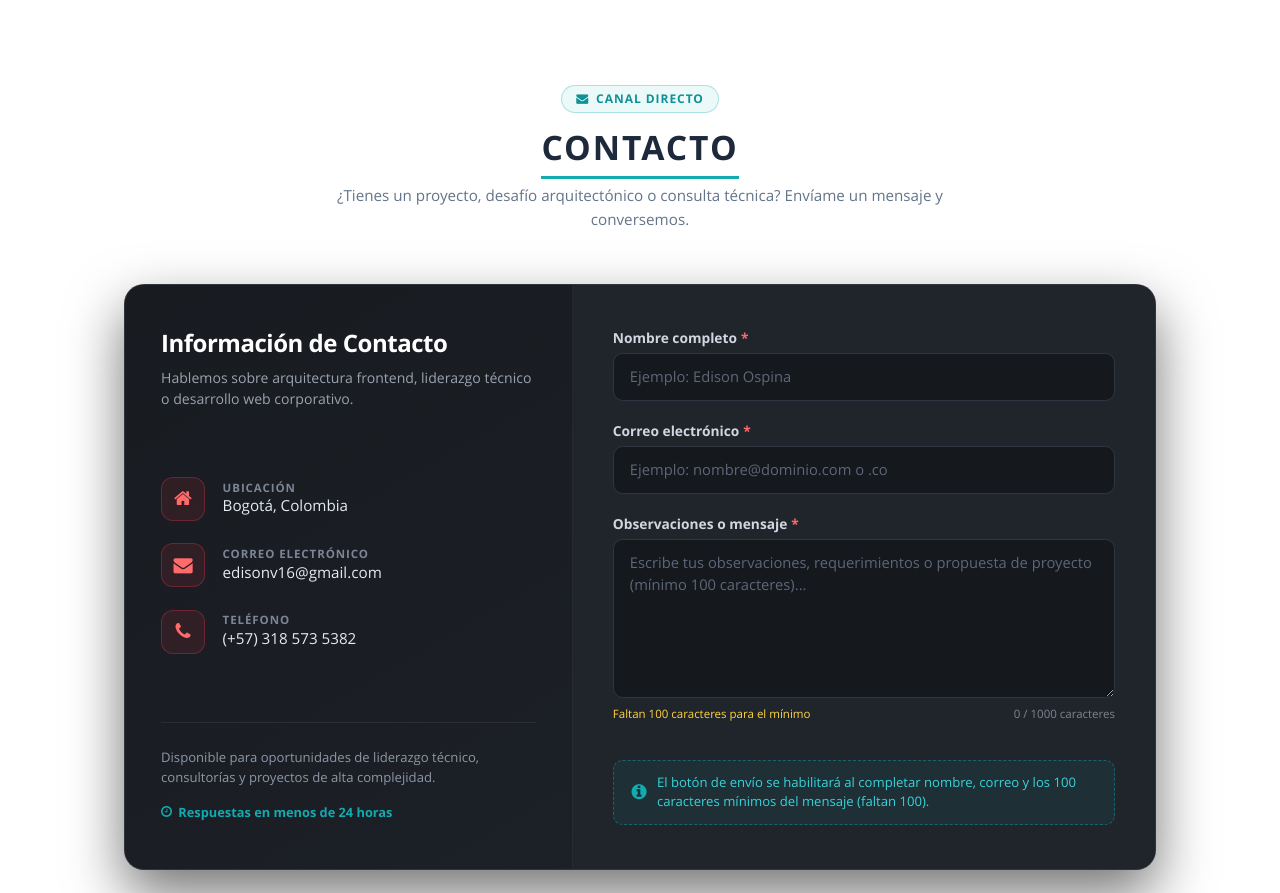
Test: Contact Component › submits successfully and displays affirmative confirmation with submitted fields and 24h SLA
In the field labelled "Nombre completo*": (864, 377) [613,353,1115,401], type "Carlos Mendoza"
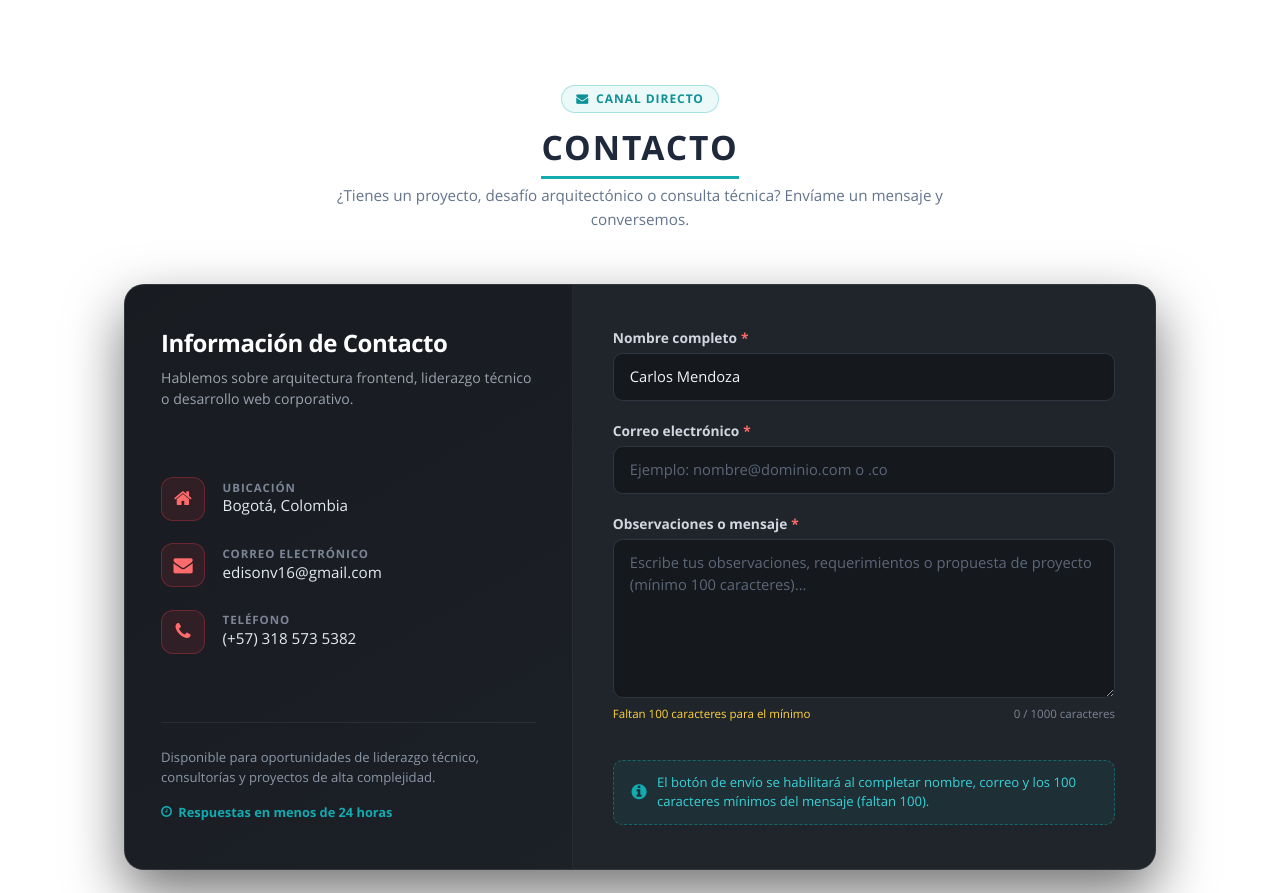
In the field labelled "Correo electrónico*": (864, 470) [613,446,1115,494], type "carlos@empresa.com.co"
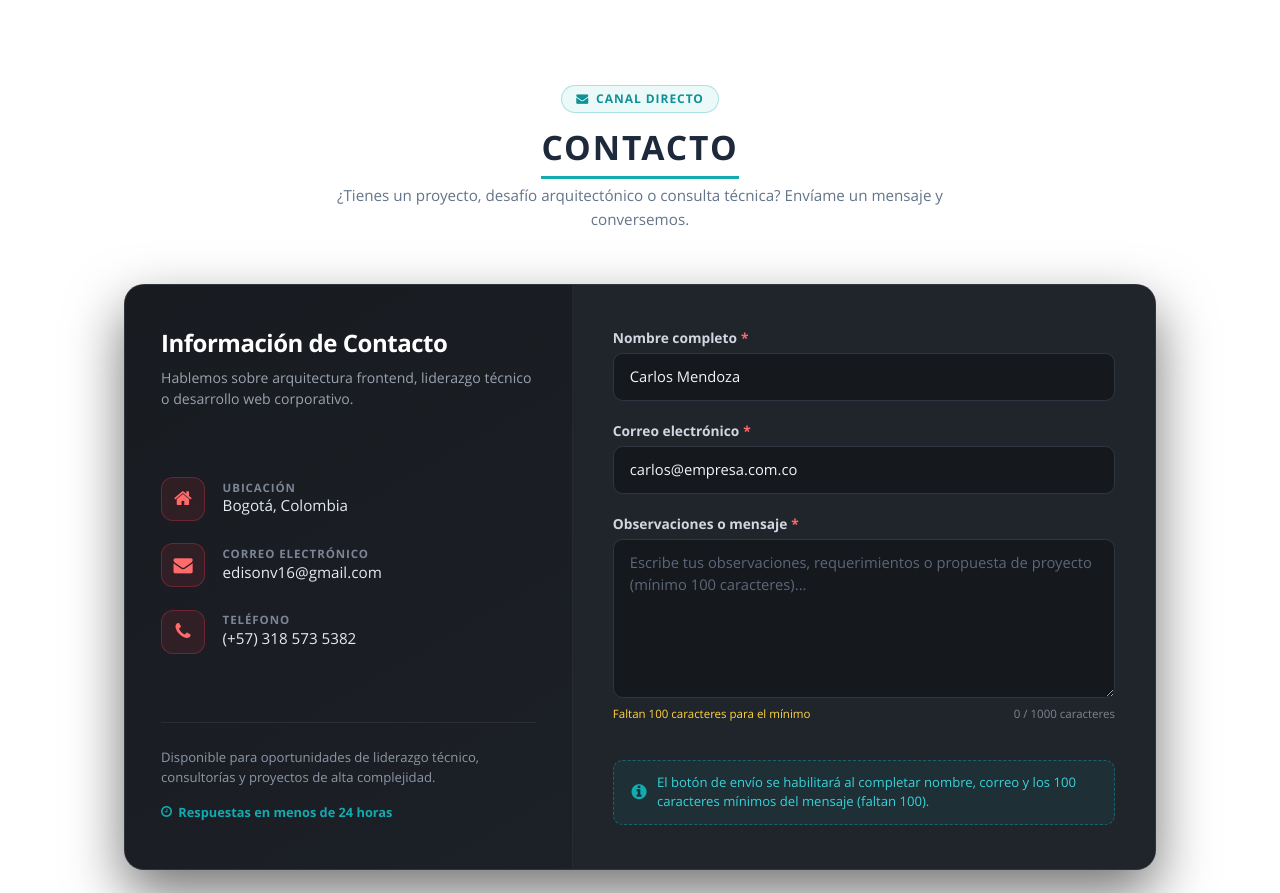
Replace the text in the text box labelled "Observaciones o mensaje*" with "Estimado Edison, me interesó mucho tu perfil profesional como Senior Frontend Engineer y deseamos coordinar una entrevista técnica para un proyecto.": (864, 619) [613,539,1115,698]
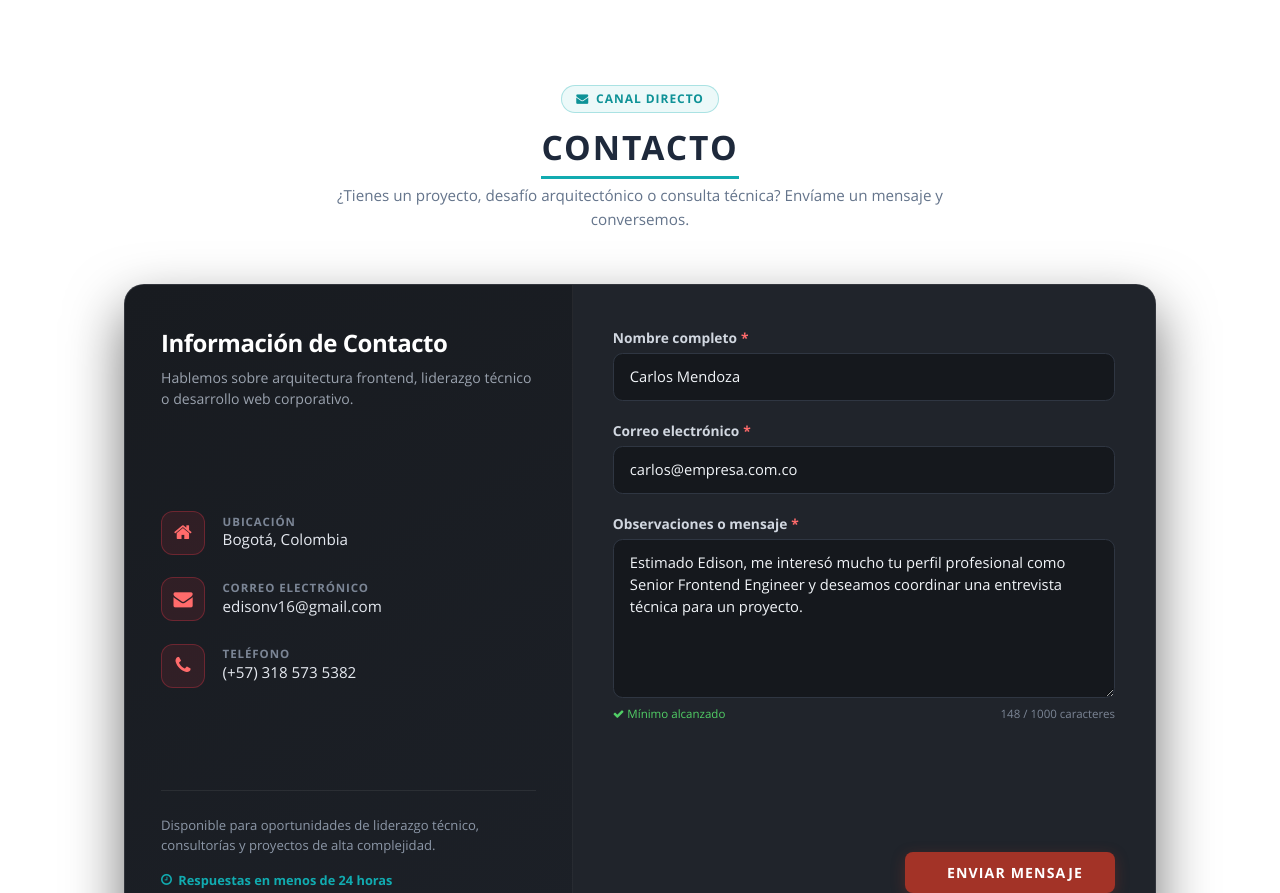
Click the button "Enviar Mensaje": (1010, 873) [905,852,1115,892]
(page scrolled)
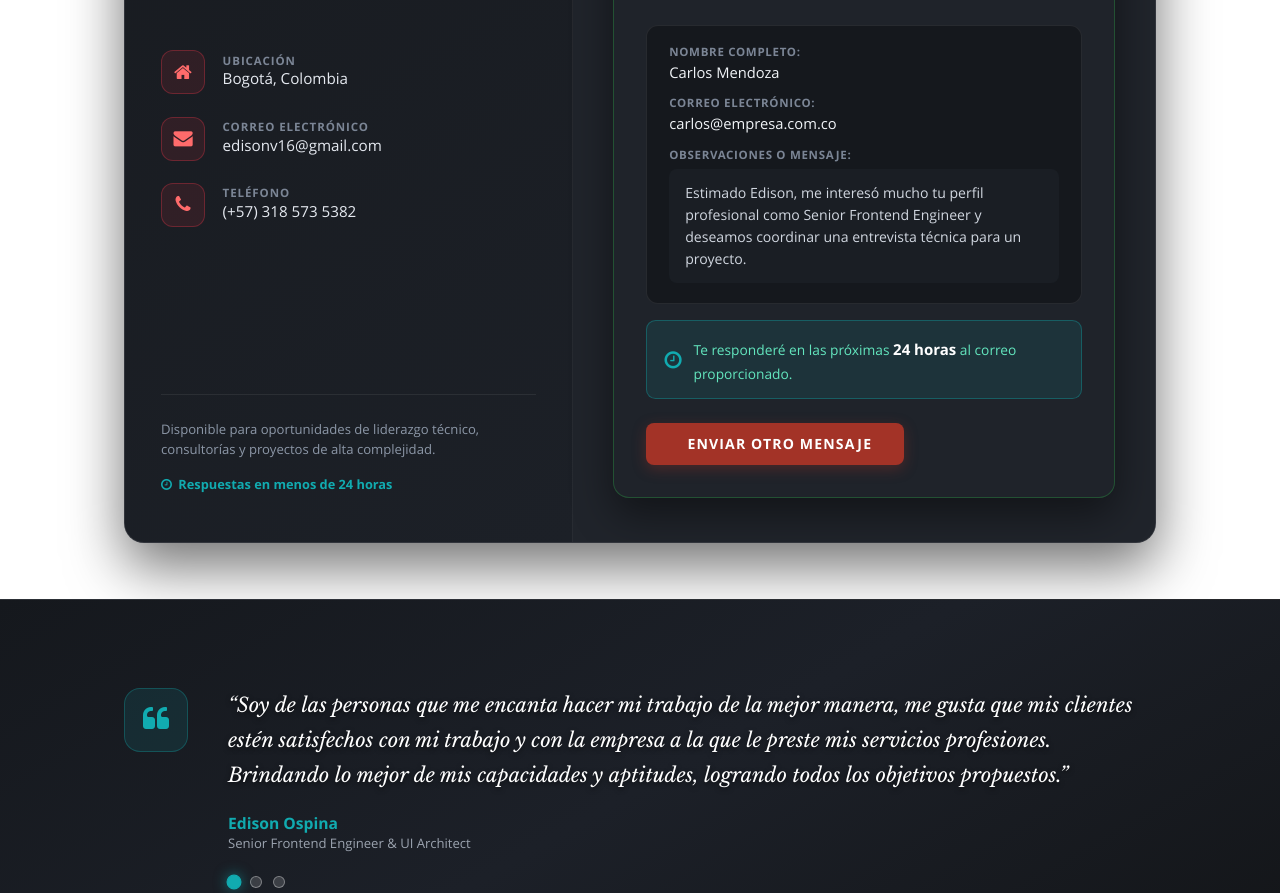
Result: the text "Carlos Mendoza" is shown at [669,63,780,82]
Result: the text "carlos@empresa.com.co" is shown at [669,114,837,133]
Result: the text "Estimado Edison, me interesó mucho tu perfil profesional como Senior Frontend Engineer y deseamos coordinar una entrevis" is shown at [685,183,1025,268]
Click the button "Enviar otro mensaje": (775, 444) [646,423,904,465]
(page scrolled)
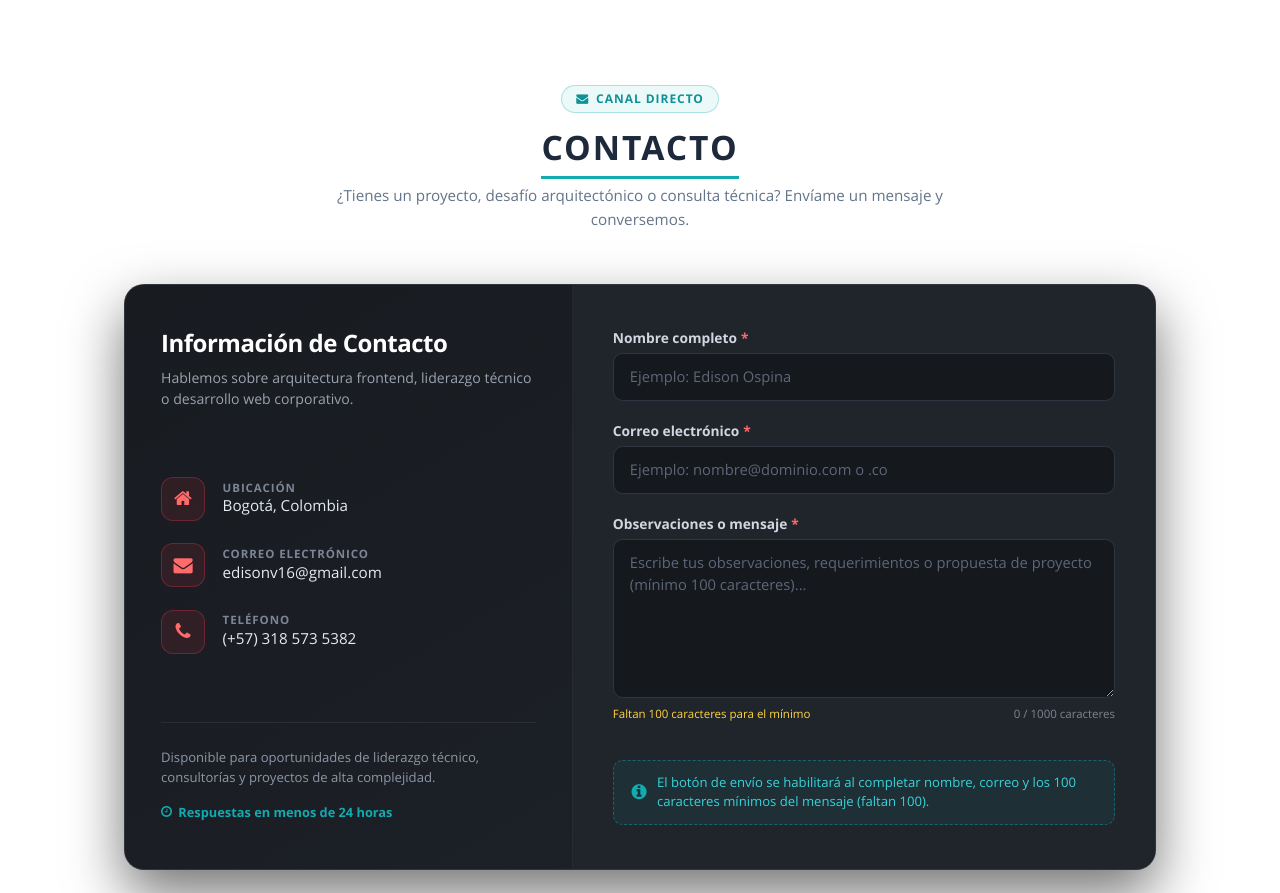
Result: the field labelled "Nombre completo*" is shown at [613,353,1115,401]
